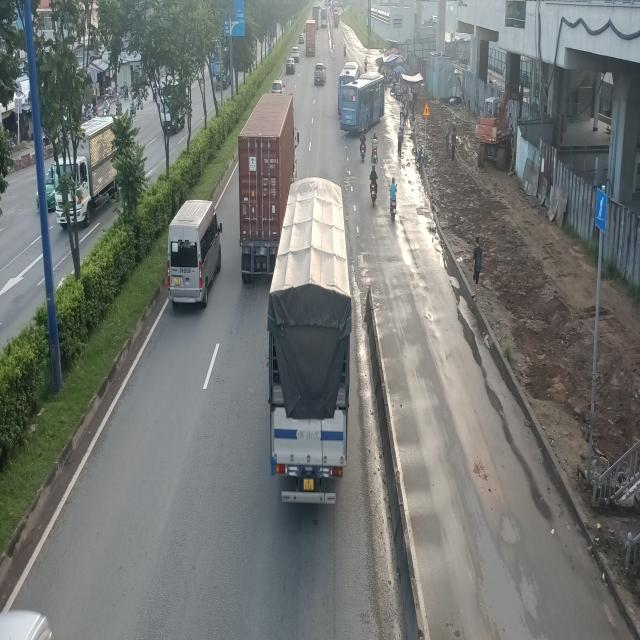coach: (340, 74, 385, 134)
container: (240, 96, 301, 284)
truck: (267, 174, 353, 506)
van: (168, 199, 225, 310)
